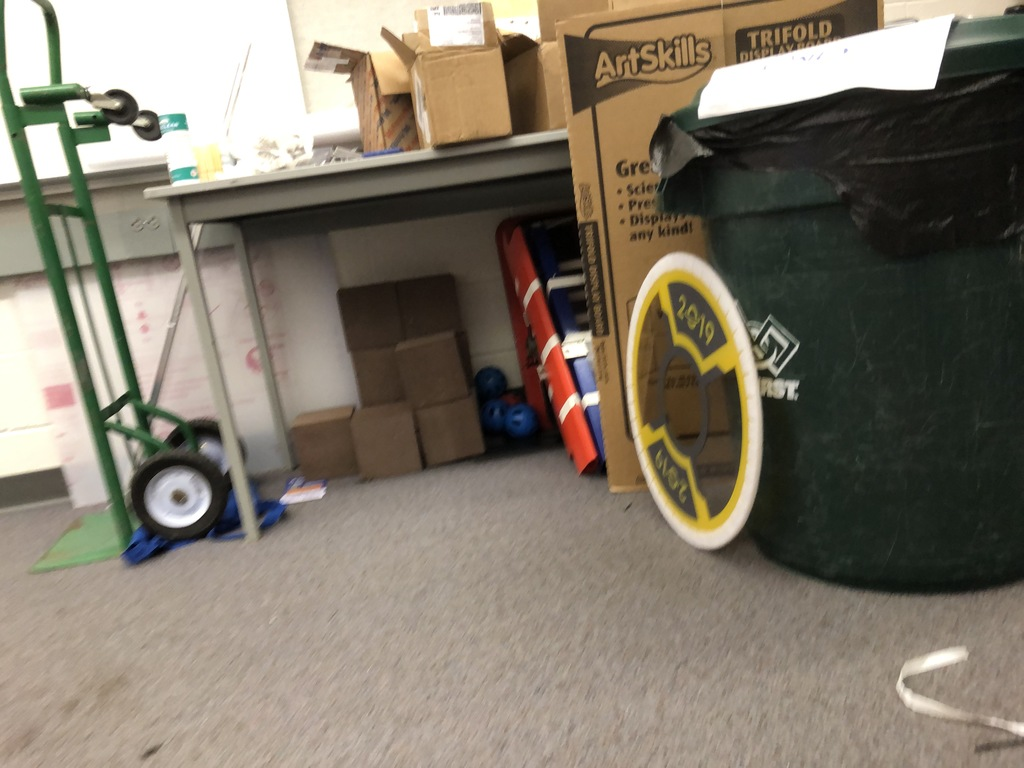hatch_panel: (626, 240, 767, 554)
